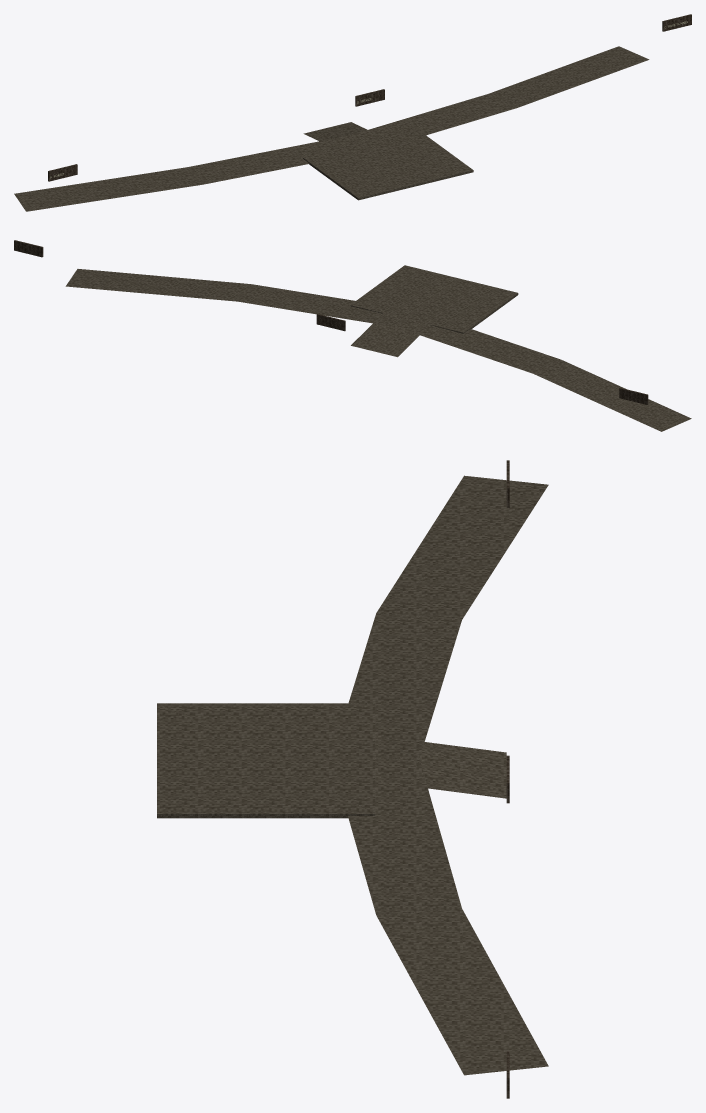
The model's file is PH03_SharedFork.fbx.
3 renders of one model, top to bottom at view 1: azimuth 30°, elevation 25°; view 2: azimuth 150°, elevation 25°; view 3: azimuth 270°, elevation 25°, orthographic. The views are drawn at different scales.
Visible parts, largest first — view 1: Fork_TurningPocket, A_SharedForkApproach, C_SharedForkApproach, B_SharedForkApproach, A_SignBoard, B_SignBoard, C_SignBoard; view 2: Fork_TurningPocket, A_SharedForkApproach, C_SharedForkApproach, B_SharedForkApproach, A_SignBoard, B_SignBoard, C_SignBoard; view 3: C_SharedForkApproach, Fork_TurningPocket, A_SharedForkApproach, B_SharedForkApproach.
Boxes of the visible parts, box(x1,y1,x2,y2) form: Fork_TurningPocket: box(303, 129, 473, 200); A_SharedForkApproach: box(14, 135, 359, 211); C_SharedForkApproach: box(347, 46, 649, 143); B_SharedForkApproach: box(303, 122, 383, 149); A_SignBoard: box(48, 164, 77, 181); B_SignBoard: box(355, 89, 384, 106); C_SignBoard: box(662, 14, 691, 31); Fork_TurningPocket: box(350, 265, 518, 333); A_SharedForkApproach: box(394, 319, 691, 431); C_SharedForkApproach: box(65, 269, 406, 327); B_SharedForkApproach: box(351, 313, 430, 357); A_SignBoard: box(619, 387, 648, 404); B_SignBoard: box(316, 314, 345, 331); C_SignBoard: box(14, 240, 43, 257); C_SharedForkApproach: box(348, 756, 548, 1075); Fork_TurningPocket: box(157, 703, 375, 818); A_SharedForkApproach: box(348, 475, 548, 760); B_SharedForkApproach: box(375, 735, 506, 798).
Size of the model in its own units: 7049 by 240 by 1794.
Materials: 3 (2 with a texture image).
